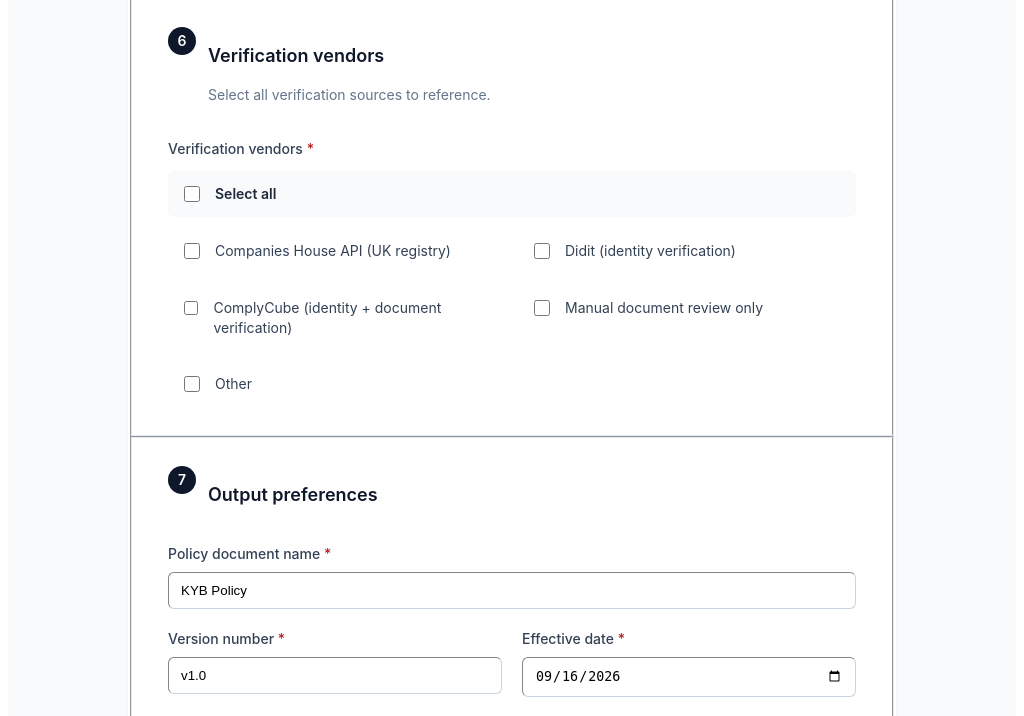
policy configuration › shows and requires the conditional Other vendor field
(page scrolled)
Click the checkbox labelled "Other".
click(192, 384)  # box x1=184 y1=376 x2=200 y2=392
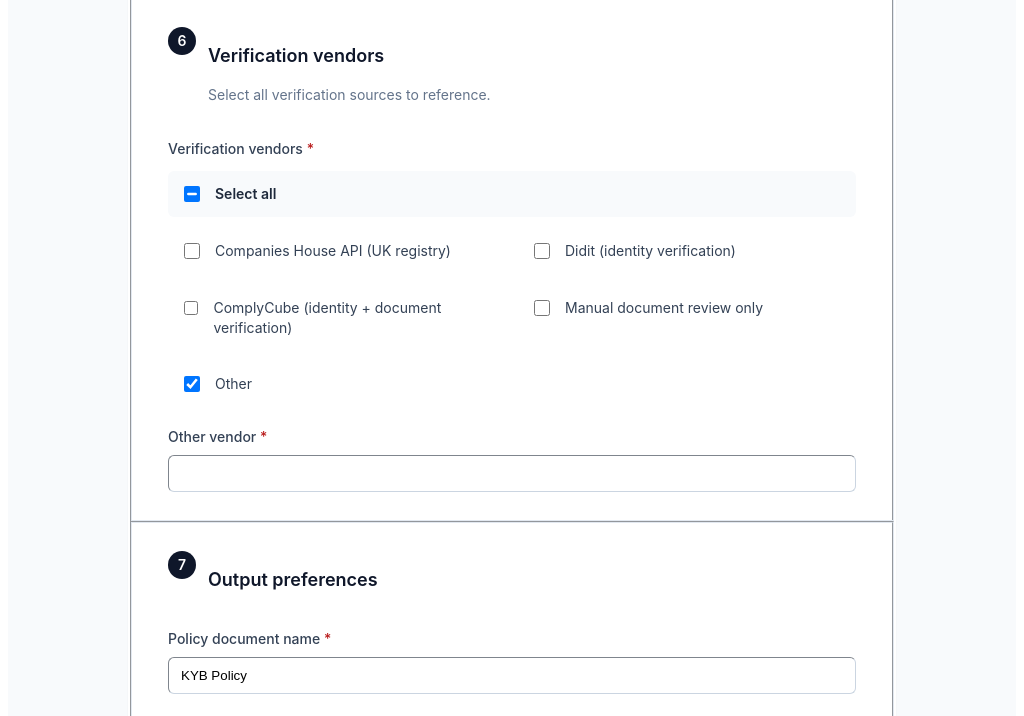
Click the checkbox labelled "Other".
click(192, 384)  # box x1=184 y1=376 x2=200 y2=392
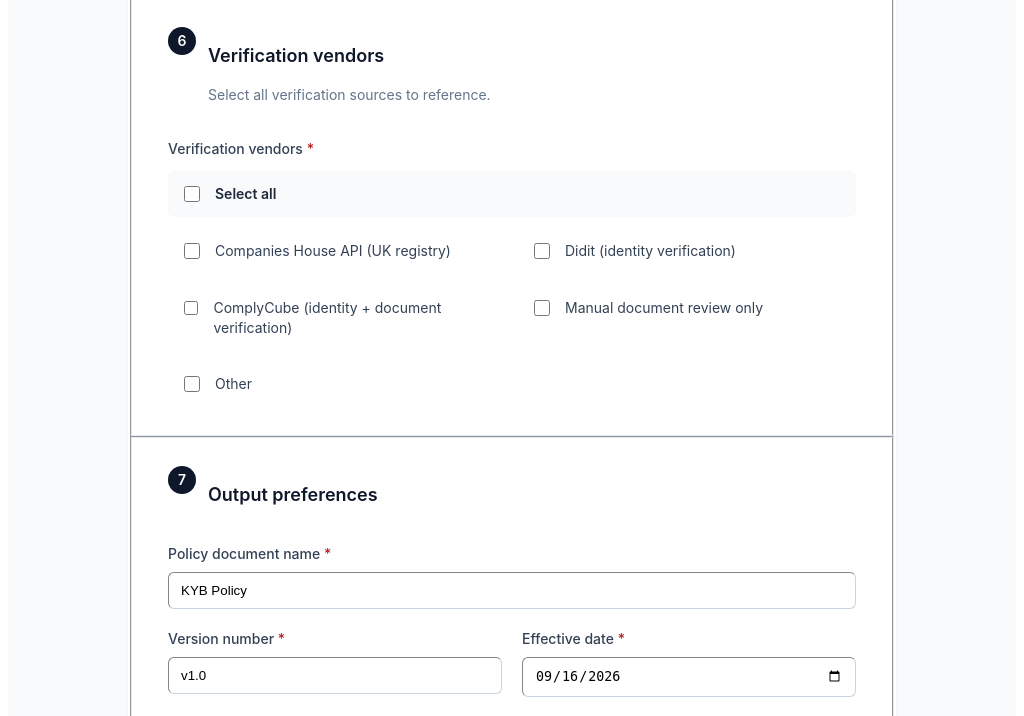
Result: the label labelled "Other vendor" is gone
